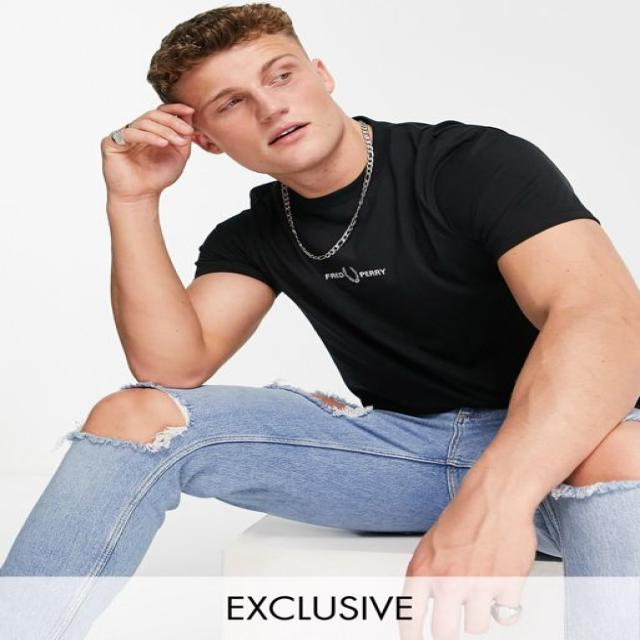tshirt: (190, 114, 601, 416)
